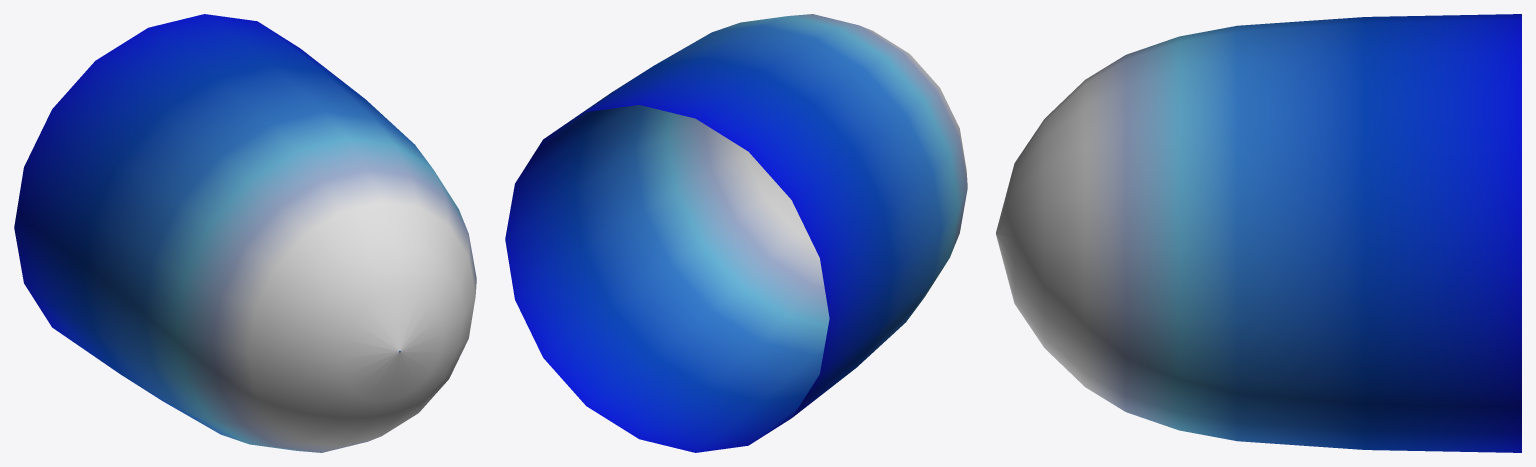
The model's file is banqiu_01_zzx.FBX.
3 views of the same model, side by side, from view 1: azimuth 30°, elevation 25°; view 2: azimuth 150°, elevation 25°; view 3: azimuth 270°, elevation 25° (orthographic). The views are drawn at different scales.
Parts seen in each view (by area): view 1: Cylinder002; view 2: Cylinder002; view 3: Cylinder002.
Boxes of the visible parts, bbox=[...] form: Cylinder002: bbox=[14, 14, 476, 452]; Cylinder002: bbox=[505, 14, 967, 452]; Cylinder002: bbox=[996, 14, 1521, 452].
Size of the model in its own units: 0.00963 by 0.00949 by 0.0115.
